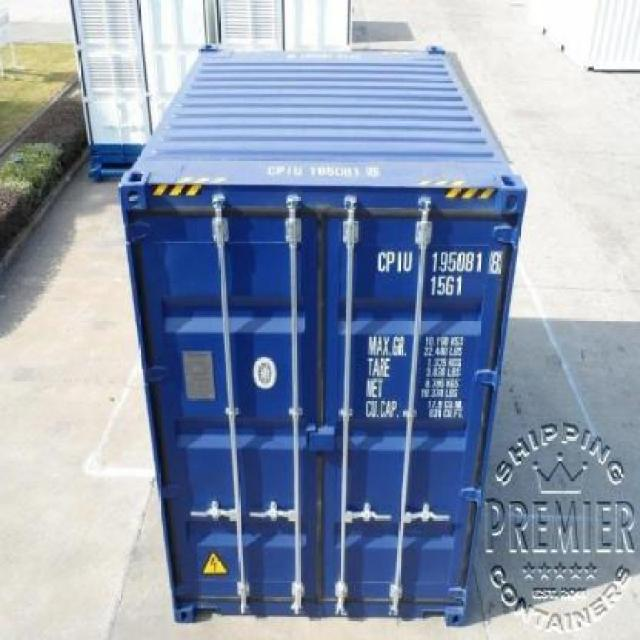ISO: (430, 275, 464, 296)
container_number: (376, 250, 501, 274)
